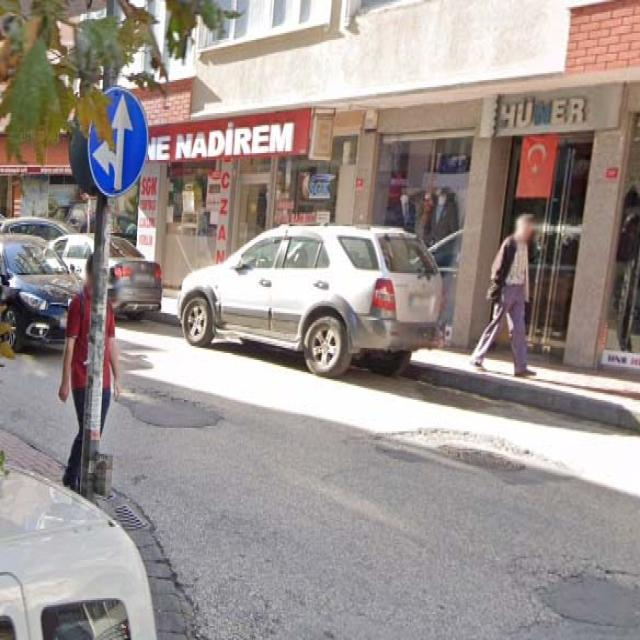ilerisol: (87, 85, 150, 197)
